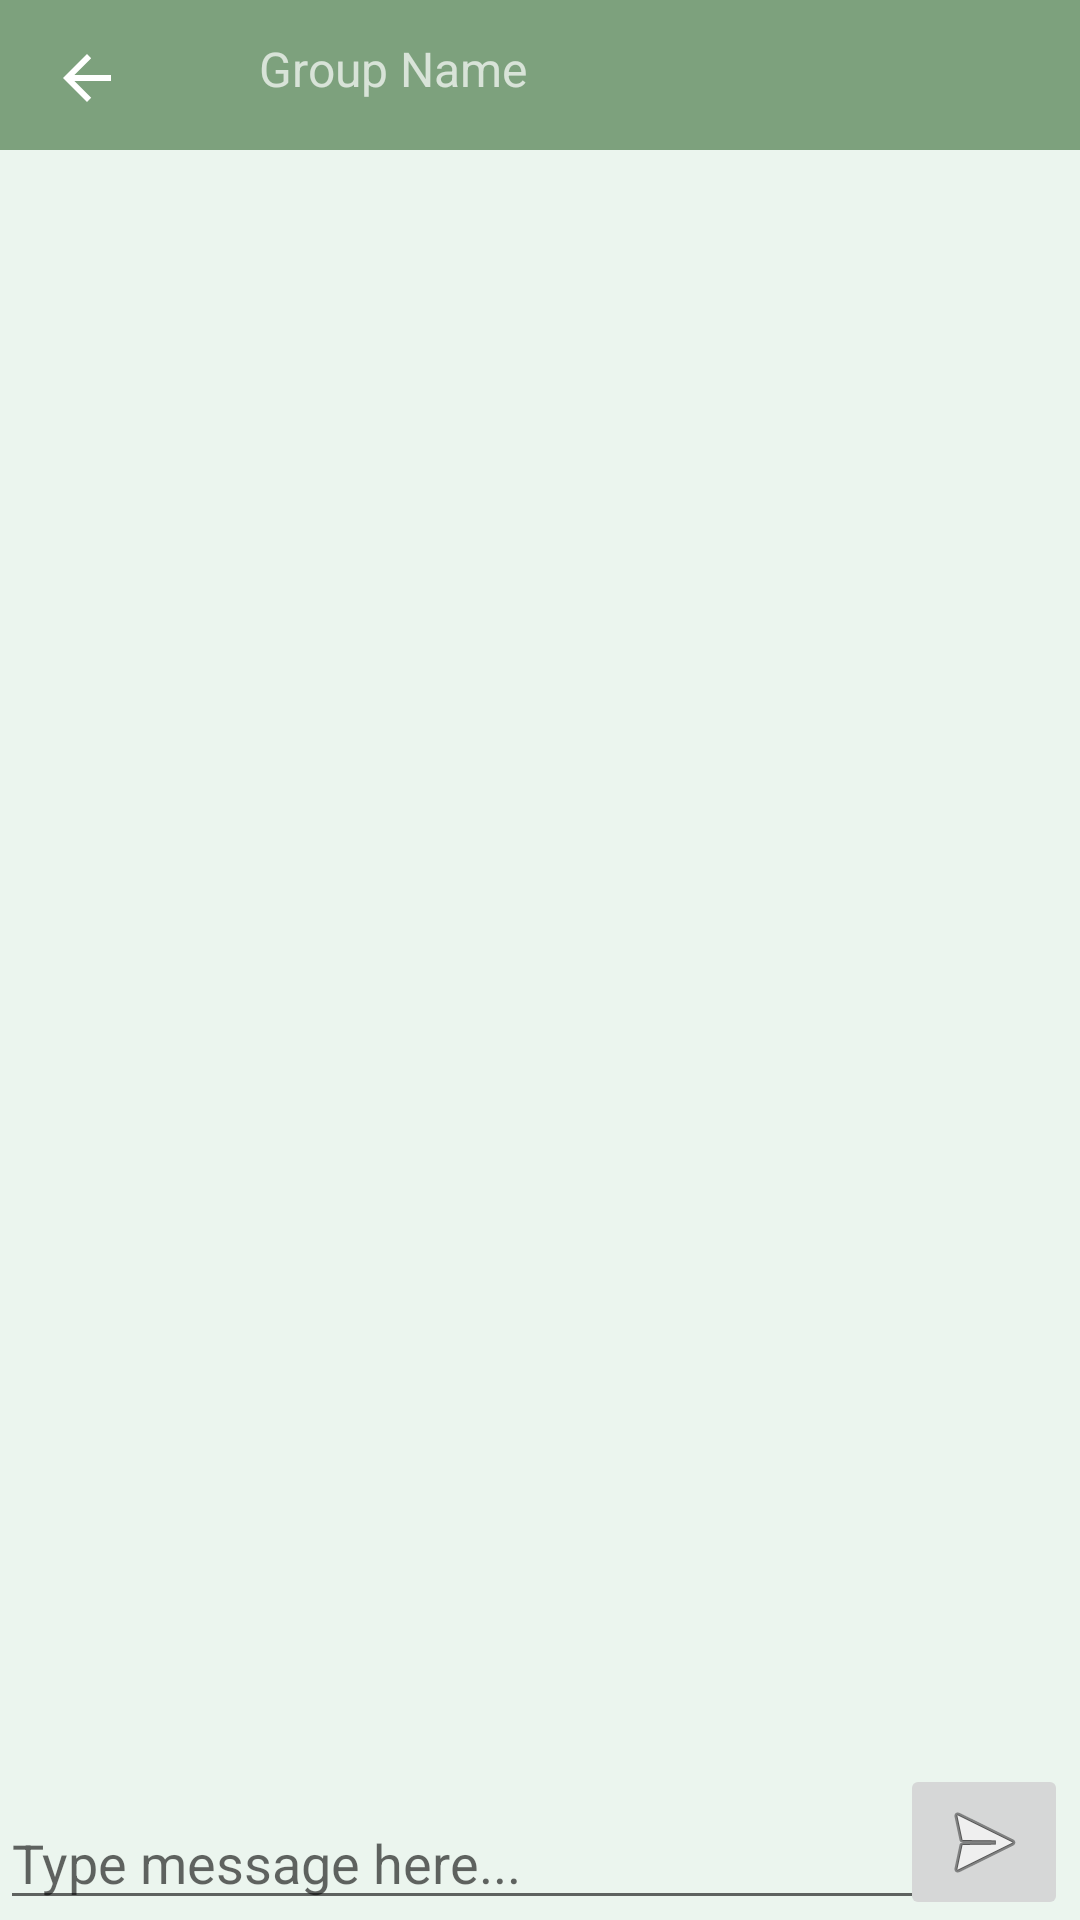

Point at icon controls on the screen. Image size 1080*1920, points as (x=x, y=y).
send: (x=978, y=1842)
